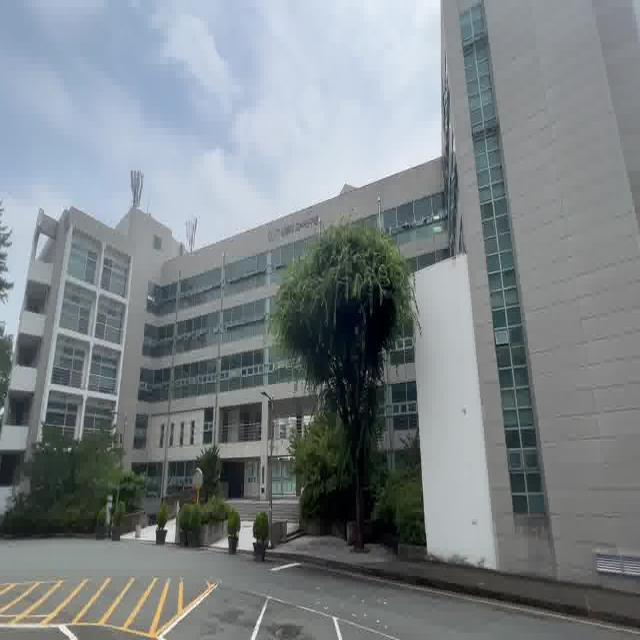building: (26, 181, 276, 454)
